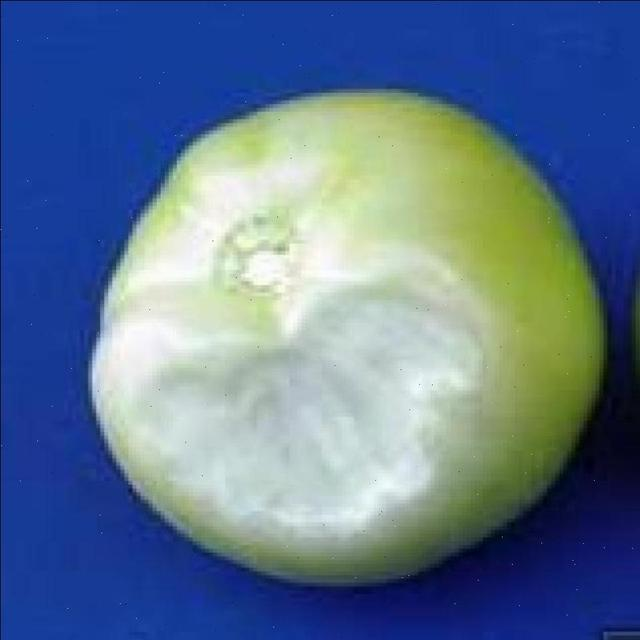Sunscald Fruit: (154, 83, 255, 262)
